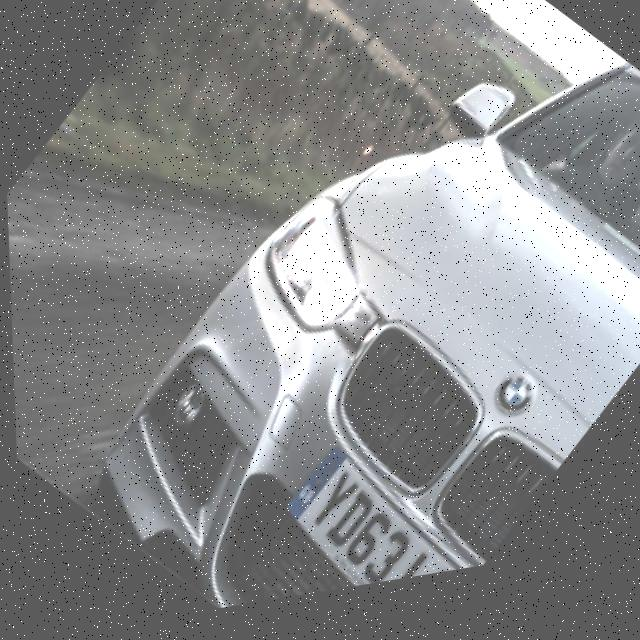license_plate: (276, 452, 478, 606)
